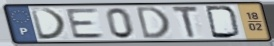0: (104, 6, 137, 40)
D: (29, 7, 70, 41), (134, 5, 172, 41), (204, 5, 243, 40)
E: (64, 7, 107, 40)
T: (170, 5, 201, 40)
